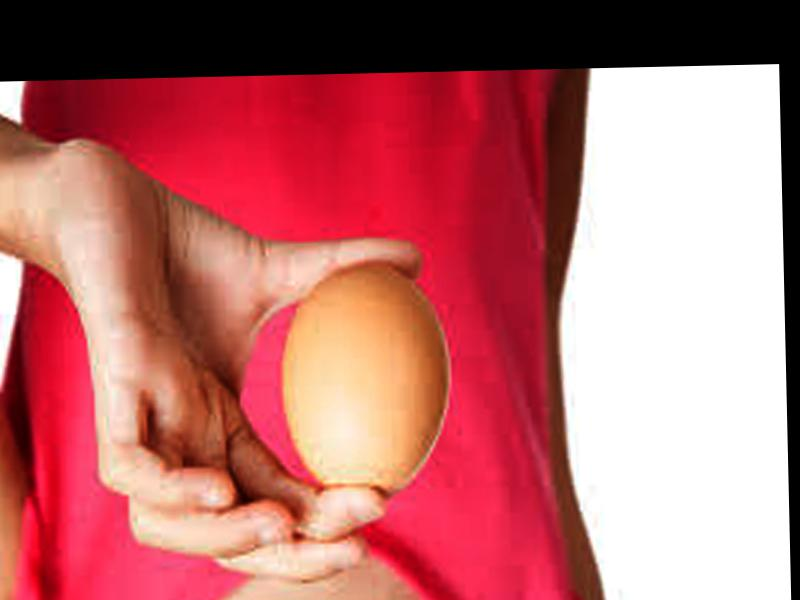Eggs: (279, 264, 450, 504)
